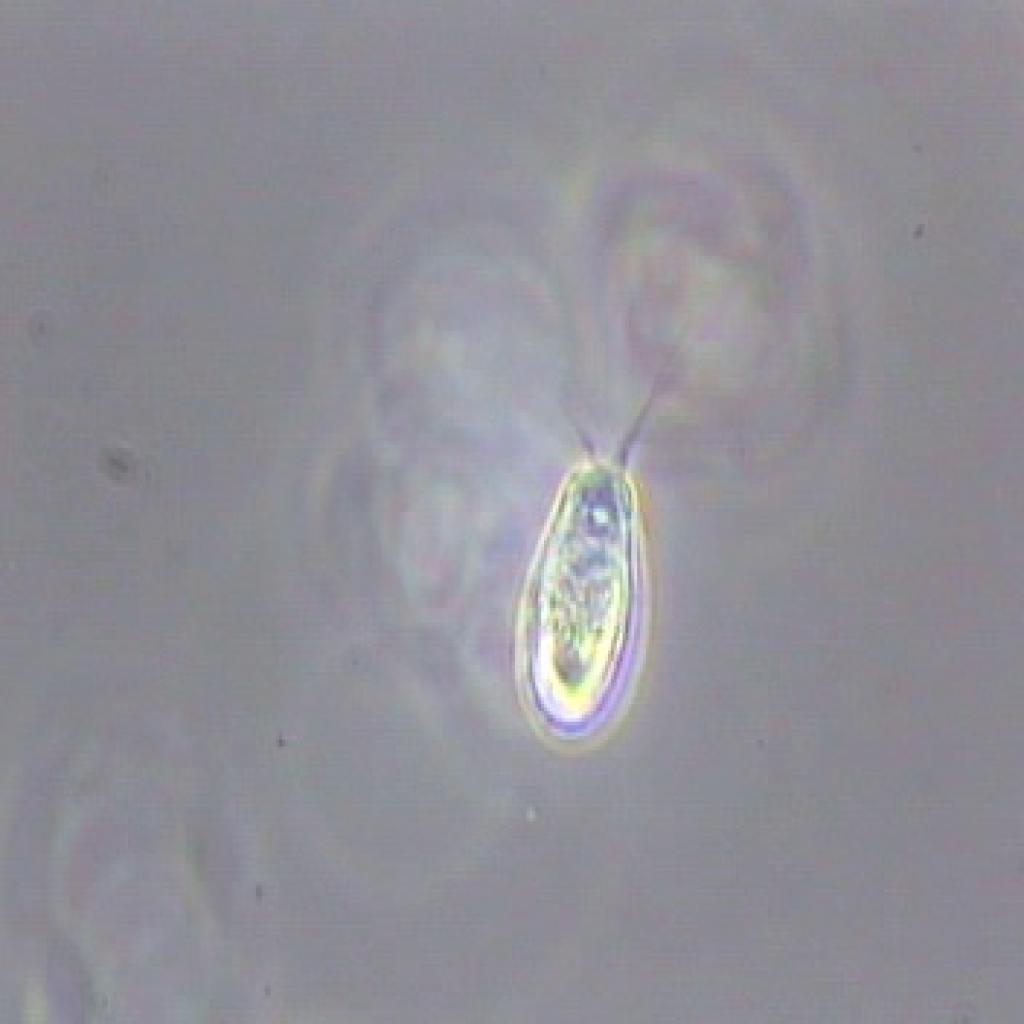Euglypha: (492, 393, 686, 770)
